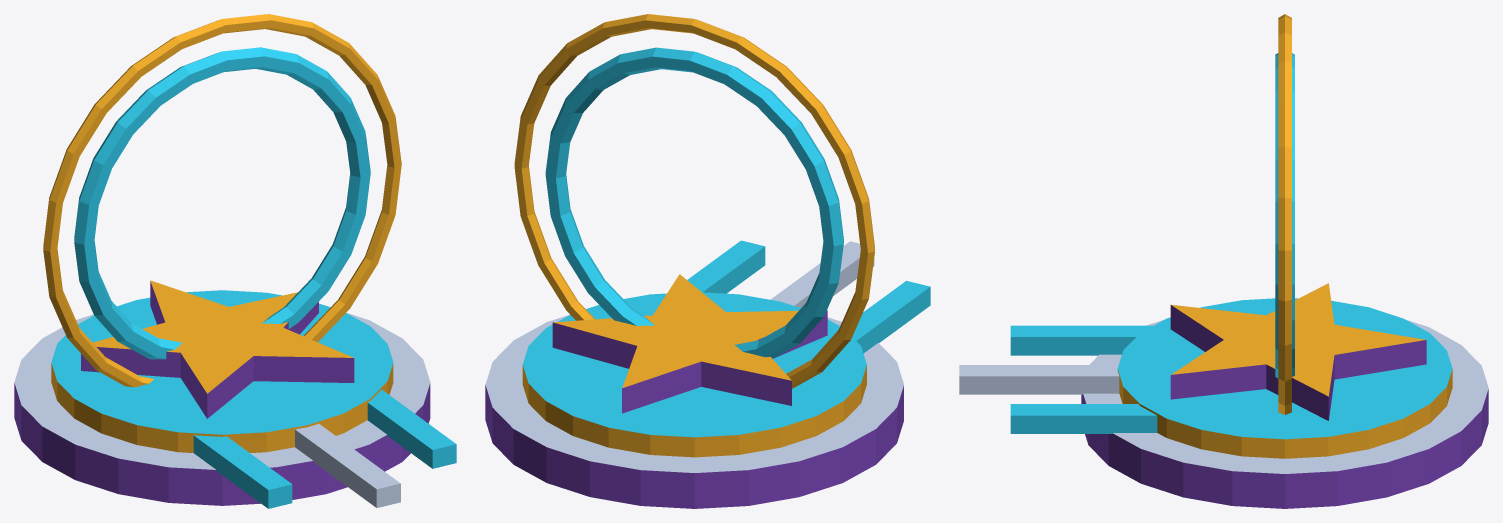
File: star_launch.obj
3 views of the same model, side by side, from view 1: azimuth 30°, elevation 25°; view 2: azimuth 150°, elevation 25°; view 3: azimuth 270°, elevation 25° (orthographic). The views are drawn at different scales.
Parts seen in each view (by area): view 1: star_launch; view 2: star_launch; view 3: star_launch.
Boxes of the visible parts, x1=… form: star_launch: x1=14, y1=14, x2=456, y2=508; star_launch: x1=485, y1=14, x2=930, y2=508; star_launch: x1=959, y1=14, x2=1488, y2=508.
Size of the model in its own units: 3.6 by 3.81 by 4.68.
